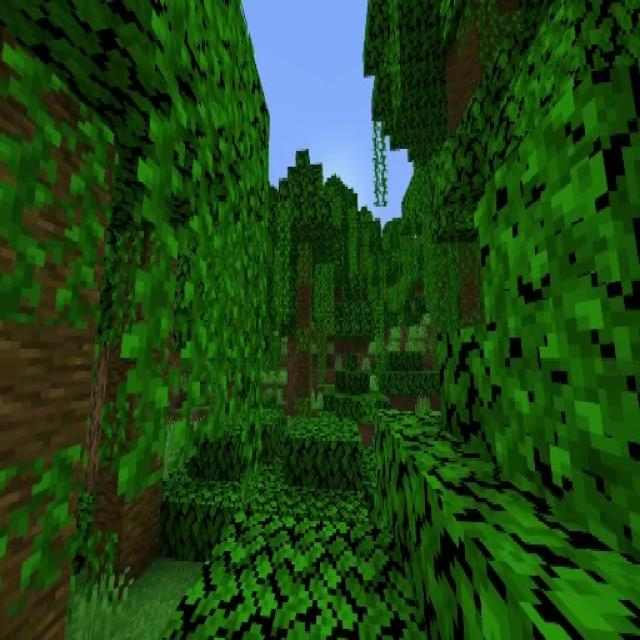jungle: (272, 150, 339, 399)
jungle_log: (0, 55, 114, 639), (91, 233, 163, 582), (295, 244, 316, 394)
